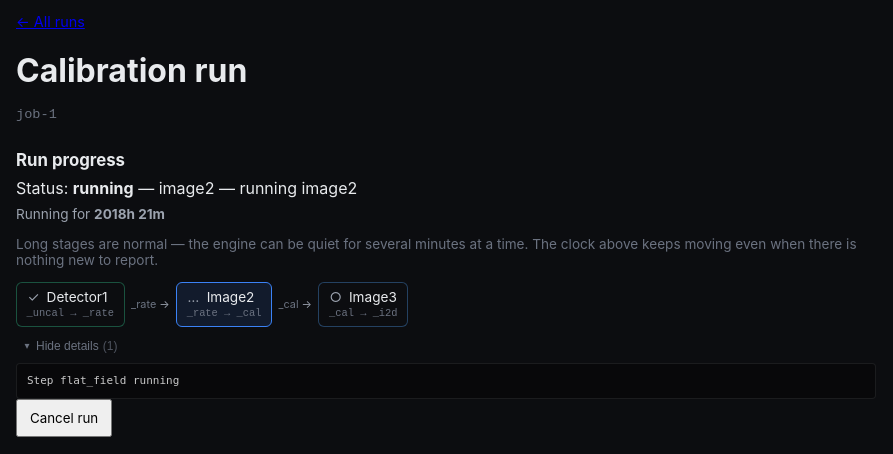
Test case: RunDetail › cancelling › shows no error when the cancel request succeeds
The width and height of the screenshot is (893, 454).
Click the button "Cancel run" at (64, 418), box [16,399,112,437]
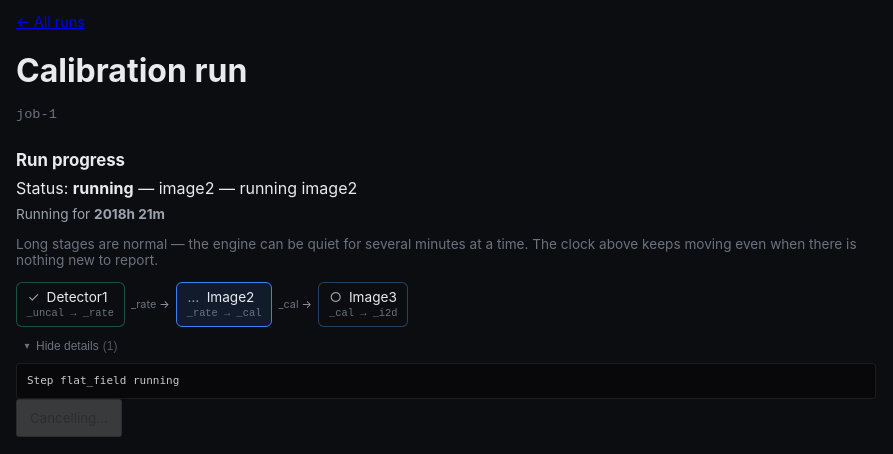
Expected: the button "Cancelling…" is shown, [16,399,122,437]
